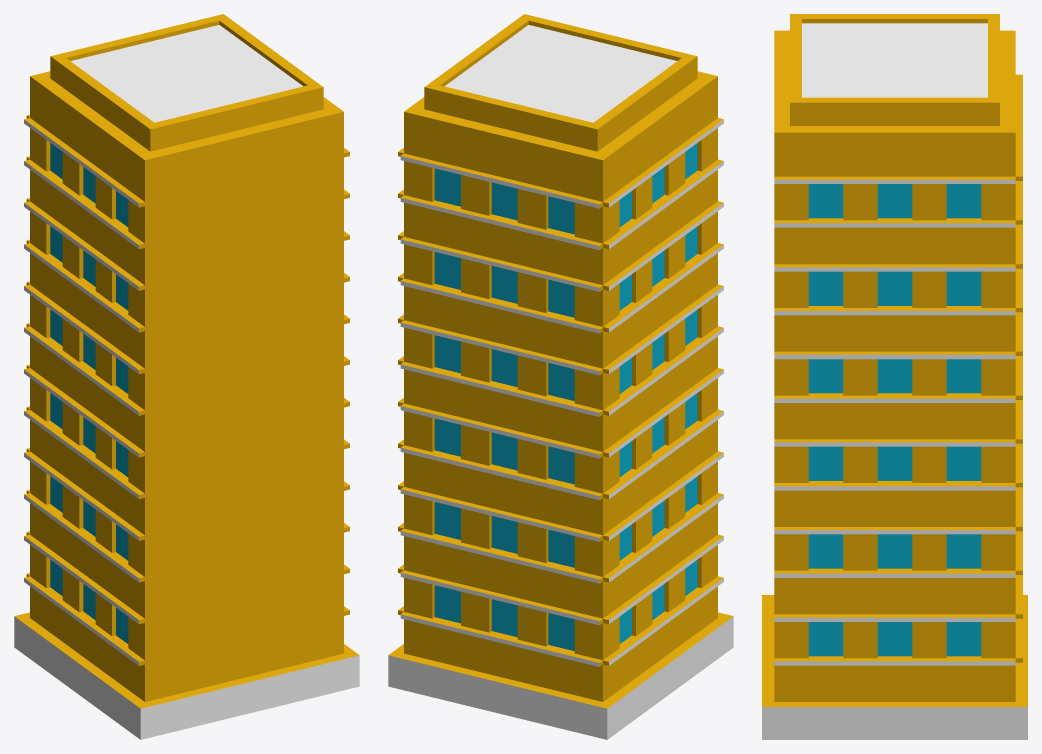
The model's file is yellow_buiilding.fbx.
3 renders of one model, left to right at view 1: azimuth 30°, elevation 25°; view 2: azimuth 150°, elevation 25°; view 3: azimuth 270°, elevation 25°, orthographic. The views are drawn at different scales.
Visible parts, largest first — view 1: Cube; view 2: Cube; view 3: Cube.
Part boxes in pixels (x1,y1,x2,y2): Cube: [14, 14, 359, 739]; Cube: [388, 14, 733, 739]; Cube: [762, 14, 1027, 739].
Size of the model in its own units: 2200 by 5714 by 2200.
